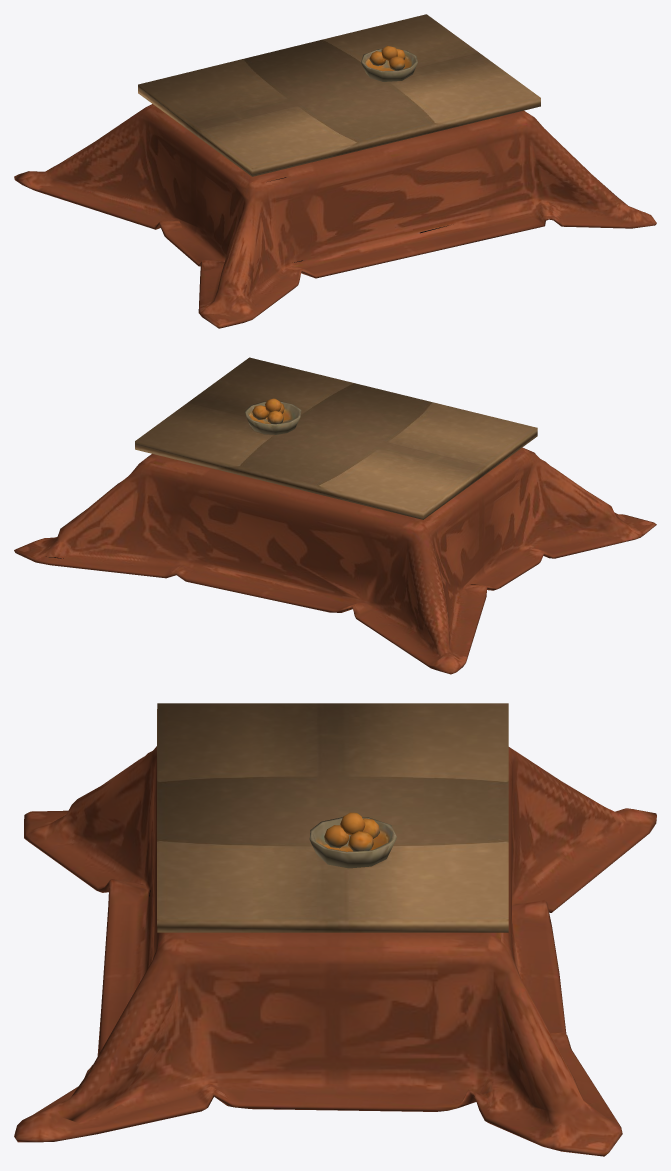
The model's file is kotatsu_floor.glb.
The picture shows the model from 3 angles, top to bottom: view 1: azimuth 30°, elevation 25°; view 2: azimuth 150°, elevation 25°; view 3: azimuth 270°, elevation 25°; orthographic projection. The views are drawn at different scales.
Parts seen in each view (by area): view 1: prop_kotatsu_floor_felt, prop_kotatsu_floor_wood; view 2: prop_kotatsu_floor_felt, prop_kotatsu_floor_wood; view 3: prop_kotatsu_floor_felt, prop_kotatsu_floor_wood.
Boxes of the visible parts, x1,y1,x2,y2 form: prop_kotatsu_floor_felt: [14, 45, 656, 328]; prop_kotatsu_floor_wood: [138, 14, 540, 176]; prop_kotatsu_floor_felt: [14, 398, 656, 674]; prop_kotatsu_floor_wood: [135, 357, 537, 519]; prop_kotatsu_floor_felt: [14, 746, 656, 1156]; prop_kotatsu_floor_wood: [157, 703, 508, 932].
Size of the model in its own units: 4.04 by 1.2 by 3.2.
Materials: 2 (2 with a texture image).
